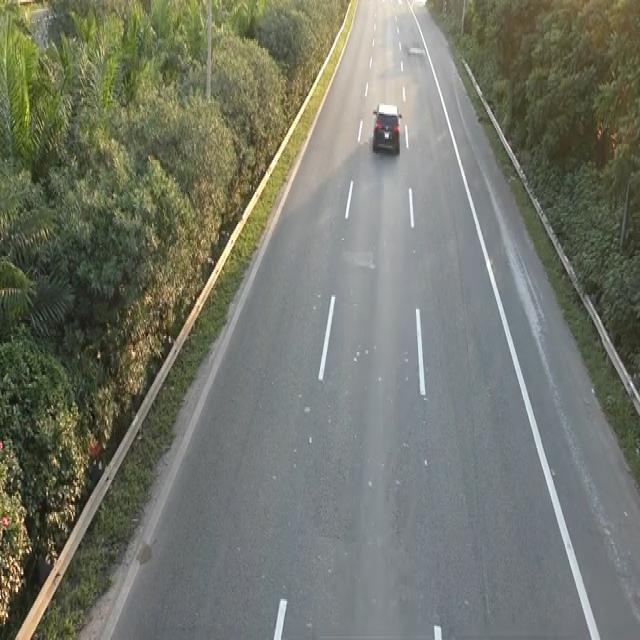car: (370, 100, 402, 154)
